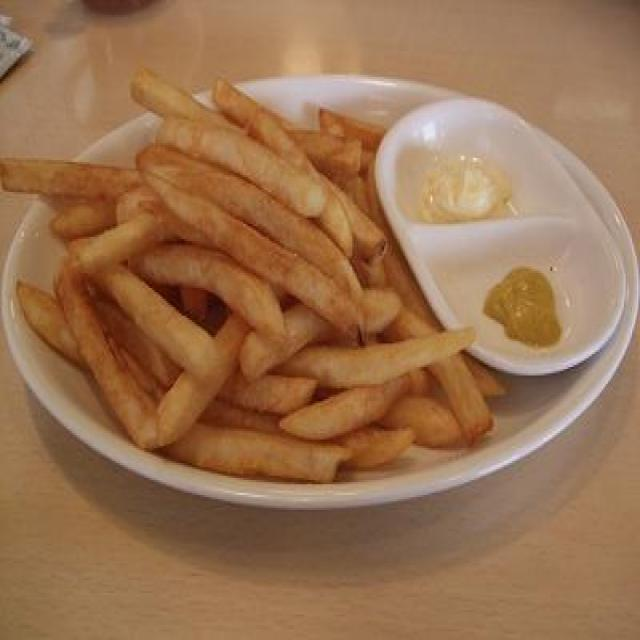French Fries: (4, 61, 471, 493)
